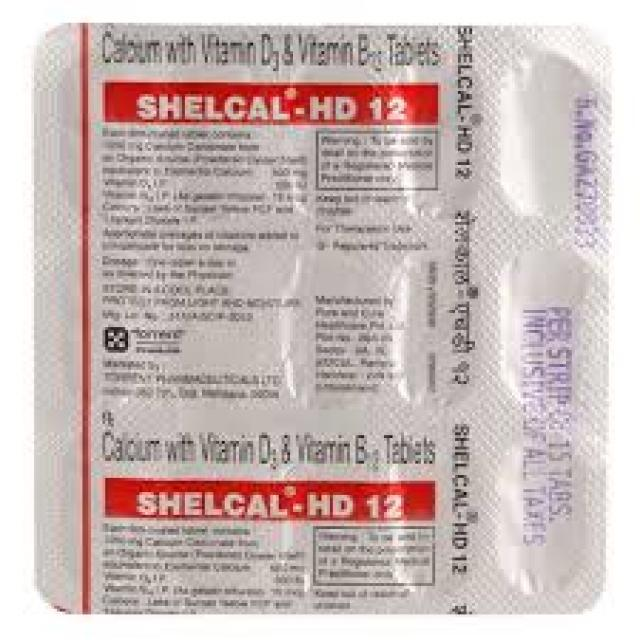authentic: (21, 12, 638, 626)
